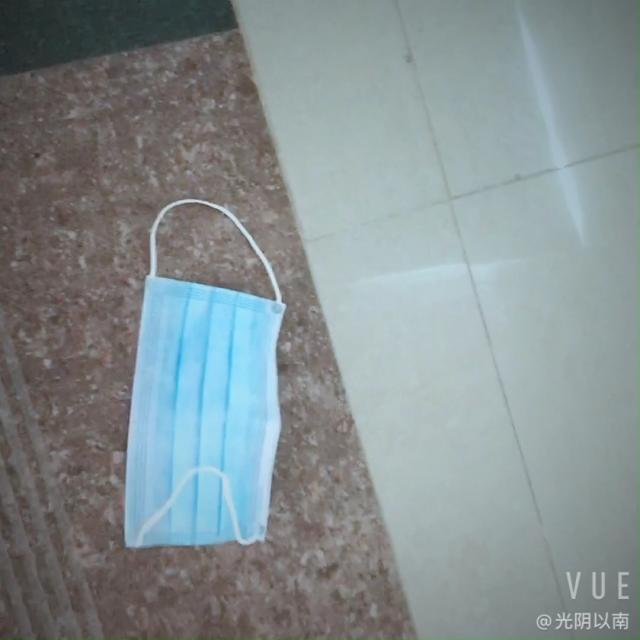face mask: (108, 256, 298, 554)
